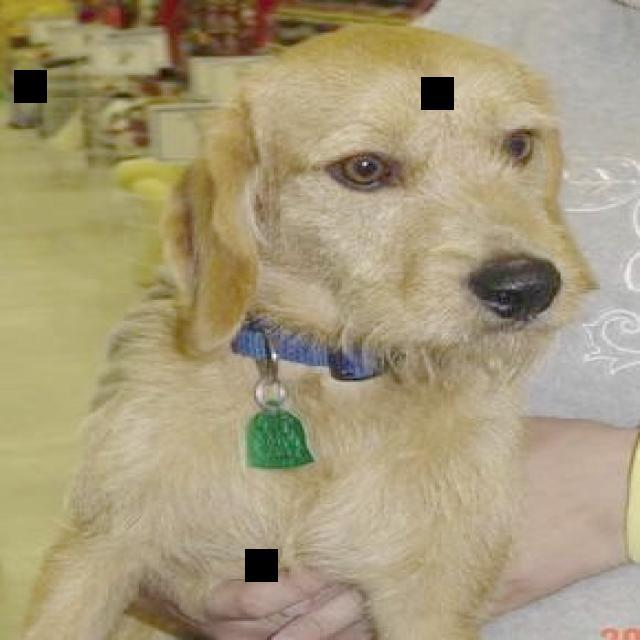puppy-dog: (20, 23, 601, 640)
